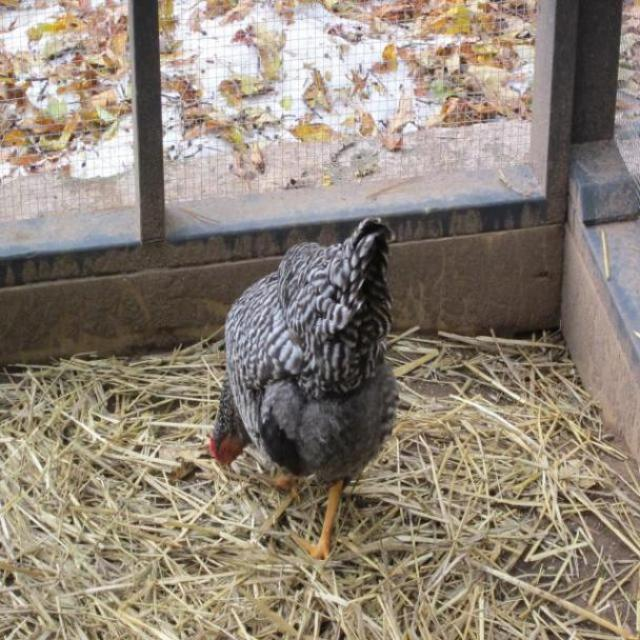Chicken: (212, 220, 402, 566)
